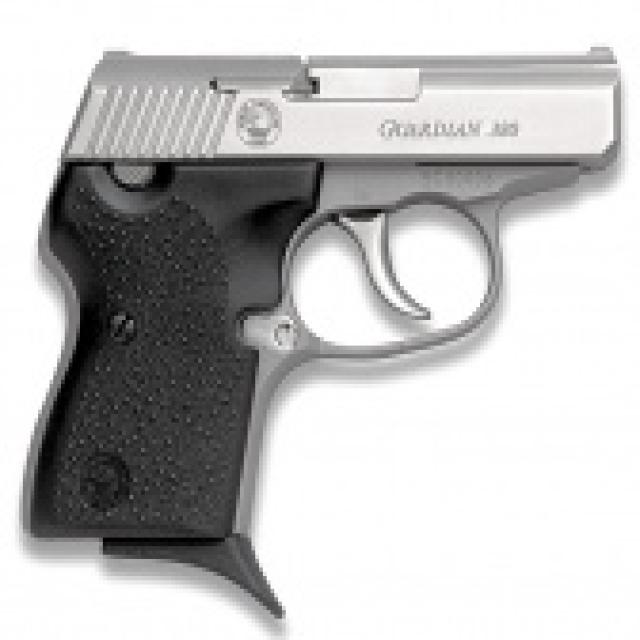pistol: (8, 26, 627, 630)
